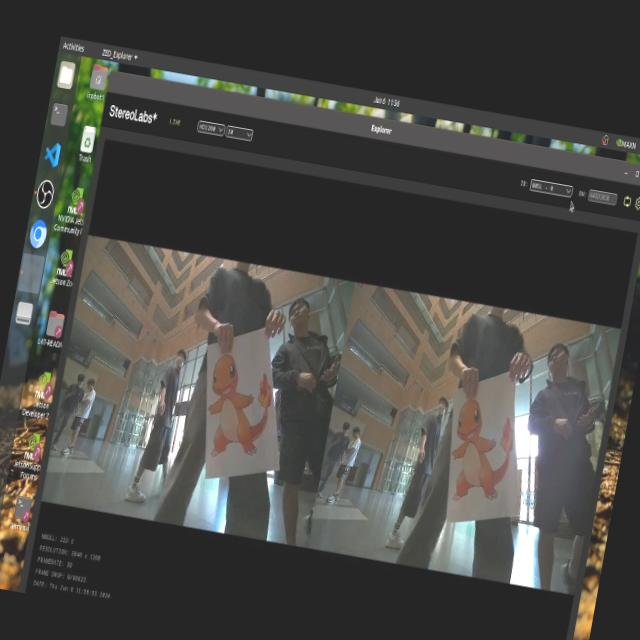red: (200, 340, 288, 467), (436, 389, 528, 503)
